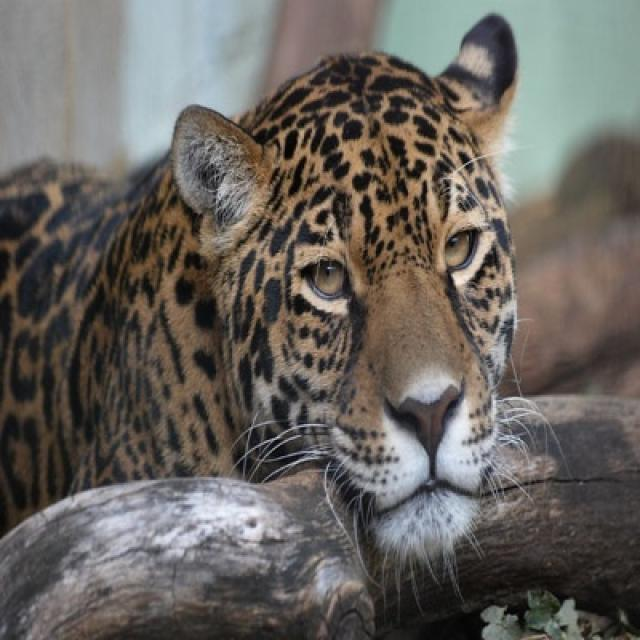Jaguar: (0, 14, 520, 618)
